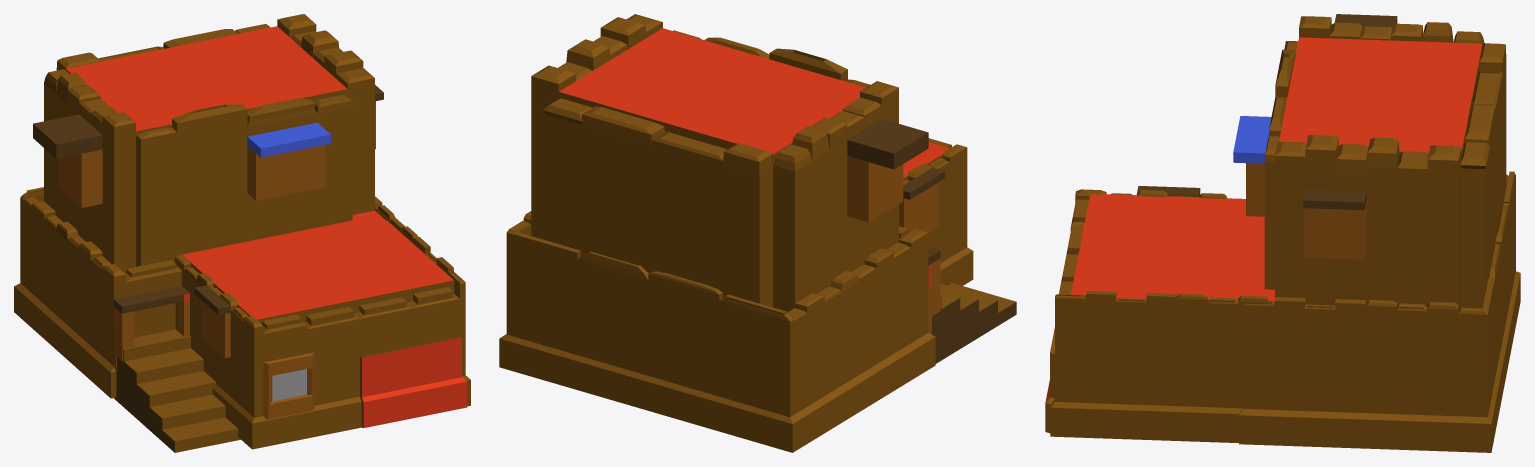
File: temple3.fbx
3 renders of one model, left to right at view 1: azimuth 30°, elevation 25°; view 2: azimuth 150°, elevation 25°; view 3: azimuth 270°, elevation 25°, orthographic. The views are drawn at different scales.
Parts seen in each view (by area): view 1: Cube.005; view 2: Cube.005; view 3: Cube.005.
Part boxes in pixels (bbox=[...]): Cube.005: bbox=[14, 14, 470, 452]; Cube.005: bbox=[499, 14, 1016, 452]; Cube.005: bbox=[1045, 14, 1520, 452].
Size of the model in its own units: 1302 by 1043 by 1511.
